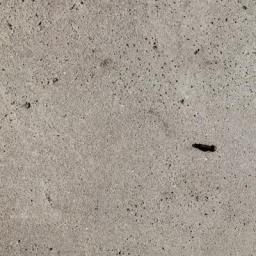FOD: (188, 135, 221, 157)
